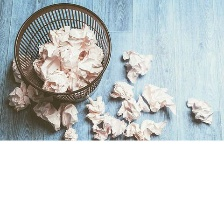book: (29, 23, 105, 97), (118, 46, 156, 85), (141, 80, 179, 119), (30, 96, 65, 134), (89, 109, 126, 142), (120, 118, 168, 142), (182, 93, 215, 126), (115, 91, 145, 125), (80, 92, 110, 124), (3, 81, 32, 114), (51, 97, 81, 127), (5, 49, 30, 82), (106, 78, 138, 99), (60, 125, 81, 143)
